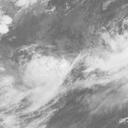cyclone: (20, 52, 70, 95)
